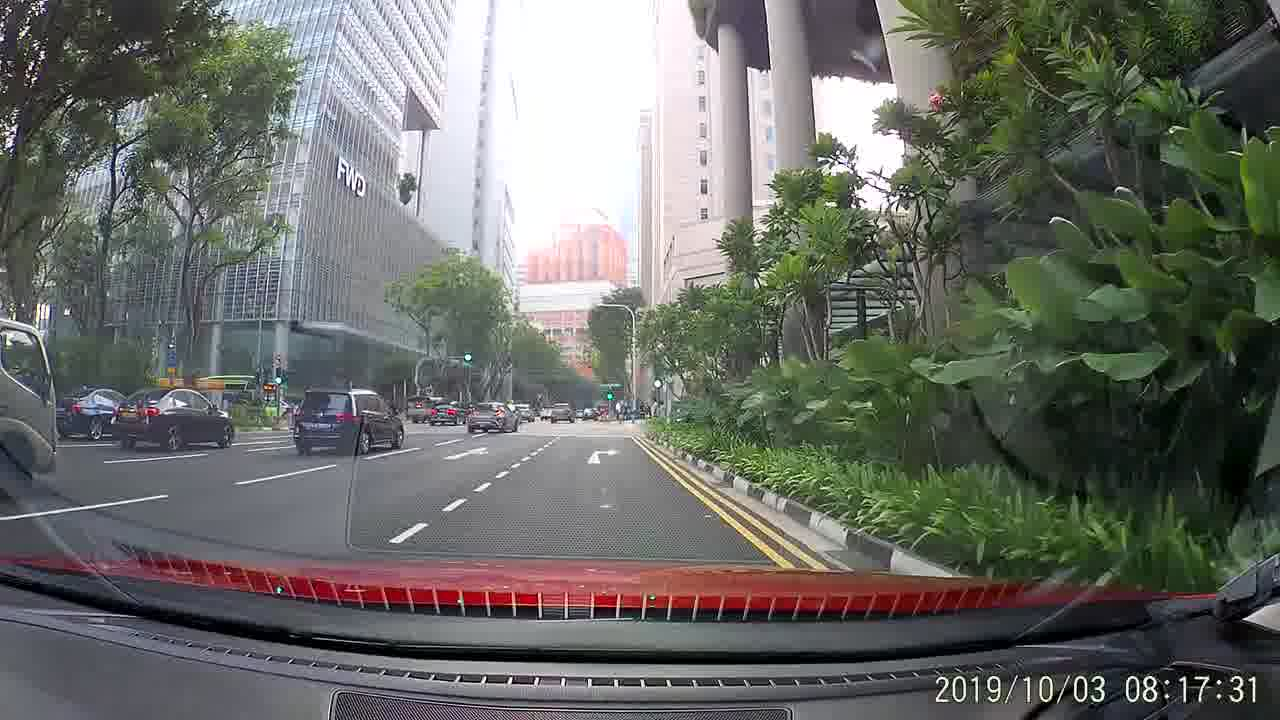bus: (181, 373, 281, 422)
car: (107, 382, 236, 454), (288, 386, 402, 453), (51, 384, 130, 442), (465, 404, 523, 433), (430, 401, 464, 426), (550, 401, 577, 423)
